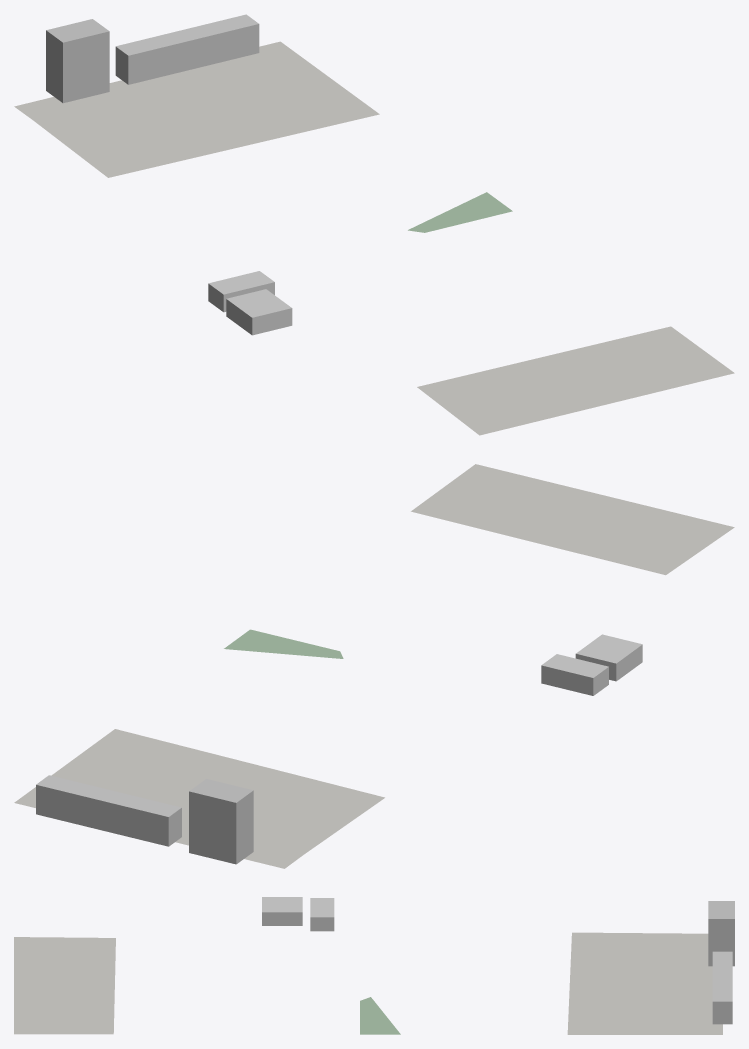
File: 120_69_mid.glb
3 views of the same model, one above another, from view 1: azimuth 30°, elevation 25°; view 2: azimuth 150°, elevation 25°; view 3: azimuth 270°, elevation 25° (orthographic). The views are drawn at different scales.
Bounding box in the file's own units: 206 × 36.98 × 508.
